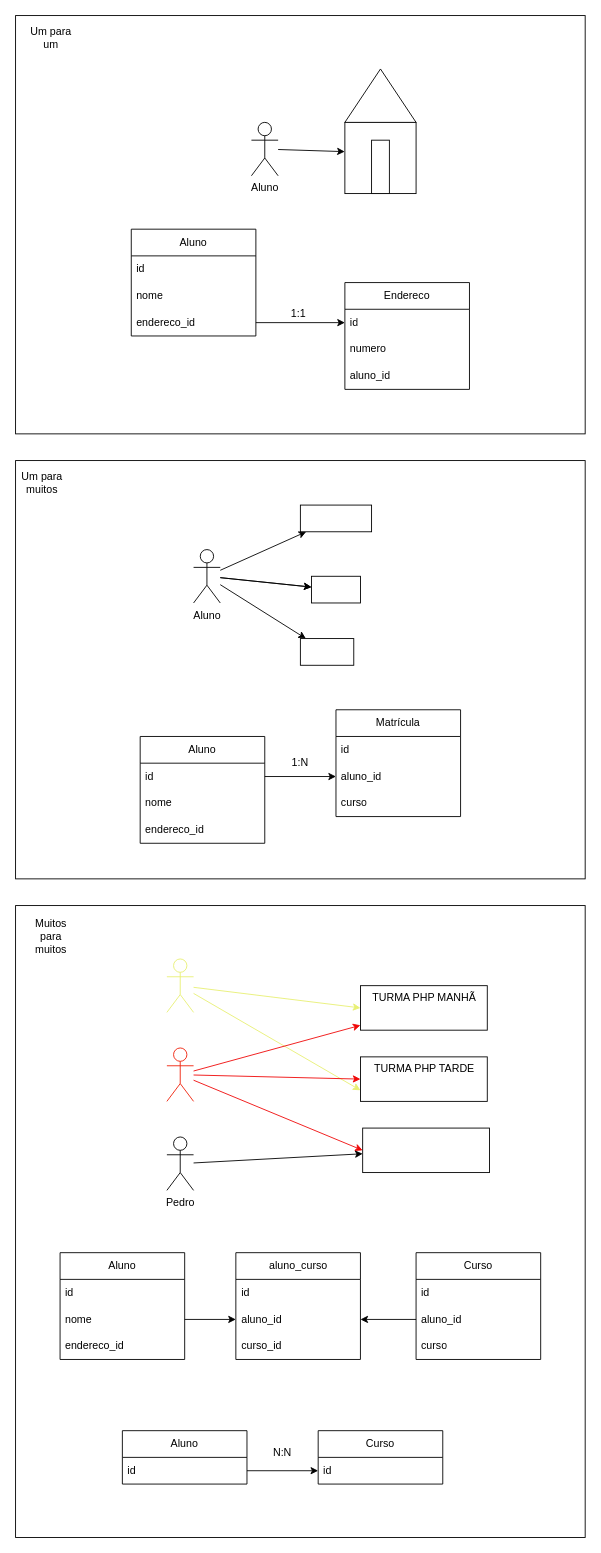
The diagram is 601 pixels wide and 1553 high, and some of its shapes have lost their labels. The shapes that lost their labels are listed below. From the top down, each one's centre as x and y in pixels, then its label:
the point at 335,518: JAVASCRIPT
the point at 335,589: PHP
the point at 326,651: HTML
the point at 180,985: João
the point at 180,1074: Maria
the point at 426,1150: TURMA PHP NOITE
